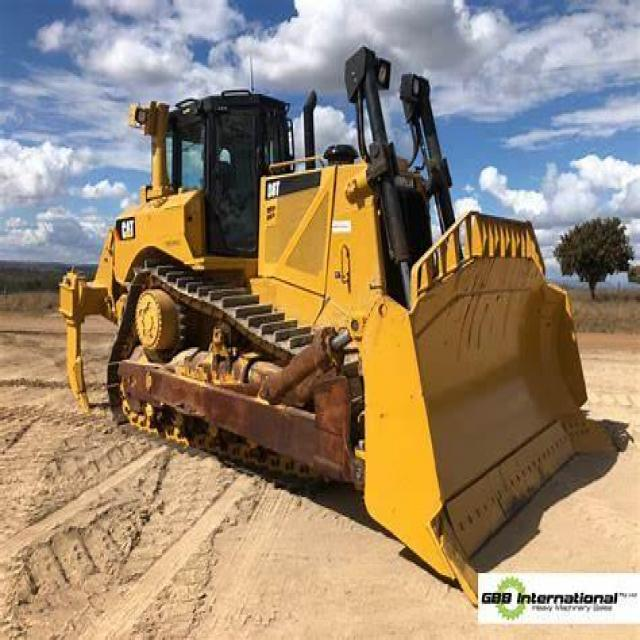Bulldozer: (30, 29, 605, 587)
